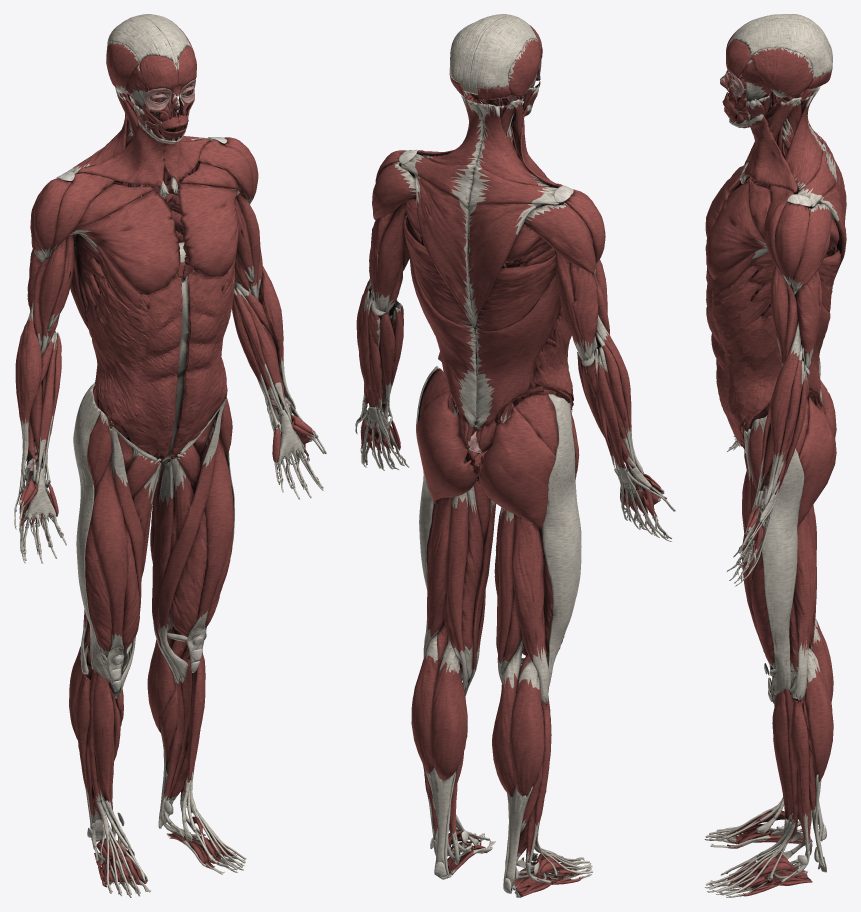
Rendered from muscular.opt.glb.
3 renders of one model, left to right at view 1: azimuth 30°, elevation 25°; view 2: azimuth 150°, elevation 25°; view 3: azimuth 270°, elevation 25°, orthographic. The views are drawn at different scales.
Visible parts, largest first — view 1: external-abdominal-oblique-muscle-r, sternocostal-head-of-pectoralis-major-muscle-r, external-abdominal-oblique-muscle-l, sternocostal-head-of-pectoralis-major-muscle-l, rectus-femoris-muscle-r, rectus-femoris-muscle-l, sartorius-muscle-l, iliotibial-tract-r, platysma-r, vastus-medialis-muscle-l, gracilis-muscle-l, sartorius-muscle-r (+46 smaller); view 2: latissimus-dorsi-muscle-r, iliotibial-tract-r, latissimus-dorsi-muscle-l, gluteus-maximus-muscle-r, descending-part-of-trapezius-muscle-l, long-head-of-biceps-femoris-r, gluteus-maximus-muscle-l, descending-part-of-trapezius-muscle-r, medial-head-of-gastrocnemius-l, lateral-head-of-gastrocnemius-r, epicranial-aponeurosis-r, scapular-spinal-part-of-deltoid-muscle-r (+34 smaller); view 3: external-abdominal-oblique-muscle-l, iliotibial-tract-l, sternocostal-head-of-pectoralis-major-muscle-l, epicranial-aponeurosis-l, long-head-of-biceps-femoris-l, gluteus-maximus-muscle-l, temporoparietalis-muscle-l, lateral-head-of-gastrocnemius-l, platysma-l, brachioradialis-muscle-l, acromial-part-of-deltoid-muscle-l, scapular-spinal-part-of-deltoid-muscle-l (+39 smaller).
Boxes of the visible parts, x1,y1,x2,y2 form: external-abdominal-oblique-muscle-r: [86, 260, 182, 451]; sternocostal-head-of-pectoralis-major-muscle-r: [70, 190, 180, 294]; external-abdominal-oblique-muscle-l: [174, 266, 234, 447]; sternocostal-head-of-pectoralis-major-muscle-l: [178, 183, 239, 277]; rectus-femoris-muscle-r: [90, 444, 127, 691]; rectus-femoris-muscle-l: [186, 419, 233, 672]; sartorius-muscle-l: [158, 400, 225, 682]; iliotibial-tract-r: [73, 382, 110, 681]; platysma-r: [78, 118, 176, 187]; vastus-medialis-muscle-l: [169, 510, 207, 658]; gracilis-muscle-l: [152, 459, 179, 683]; sartorius-muscle-r: [108, 424, 143, 697]; latissimus-dorsi-muscle-r: [475, 254, 561, 428]; iliotibial-tract-r: [542, 394, 581, 688]; latissimus-dorsi-muscle-l: [403, 215, 476, 426]; gluteus-maximus-muscle-r: [478, 406, 555, 530]; descending-part-of-trapezius-muscle-l: [414, 174, 475, 330]; long-head-of-biceps-femoris-r: [511, 514, 549, 703]; gluteus-maximus-muscle-l: [416, 391, 478, 505]; descending-part-of-trapezius-muscle-r: [468, 203, 544, 330]; medial-head-of-gastrocnemius-l: [431, 640, 467, 780]; lateral-head-of-gastrocnemius-r: [510, 659, 544, 796]; epicranial-aponeurosis-r: [469, 15, 538, 94]; scapular-spinal-part-of-deltoid-muscle-r: [524, 202, 595, 276]; external-abdominal-oblique-muscle-l: [706, 265, 781, 445]; iliotibial-tract-l: [759, 415, 804, 695]; sternocostal-head-of-pectoralis-major-muscle-l: [705, 181, 766, 279]; epicranial-aponeurosis-l: [729, 18, 832, 78]; long-head-of-biceps-femoris-l: [793, 511, 816, 700]; gluteus-maximus-muscle-l: [797, 397, 836, 526]; temporoparietalis-muscle-l: [750, 47, 813, 97]; lateral-head-of-gastrocnemius-l: [805, 654, 833, 781]; platysma-l: [729, 114, 797, 192]; brachioradialis-muscle-l: [763, 321, 800, 506]; acromial-part-of-deltoid-muscle-l: [774, 202, 809, 285]; scapular-spinal-part-of-deltoid-muscle-l: [792, 203, 831, 294].
Size of the model in its own units: 0.6598 by 1.7 by 0.2586.
Materials: 6 (6 with a texture image).
